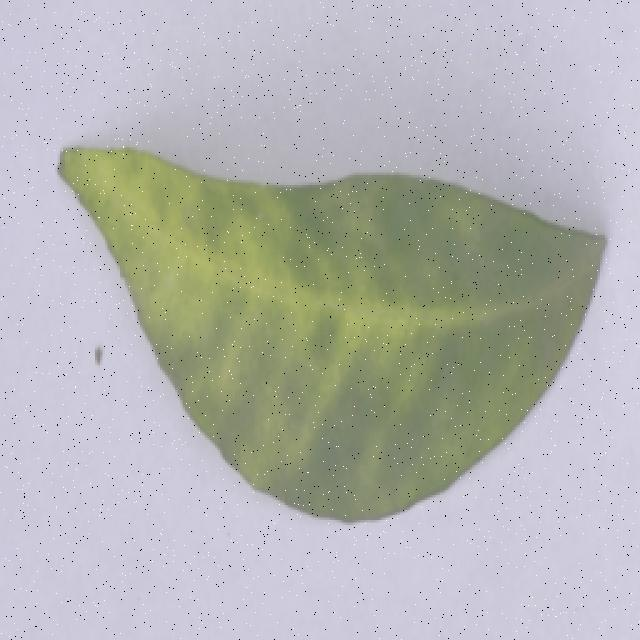greening: (29, 128, 619, 550)
